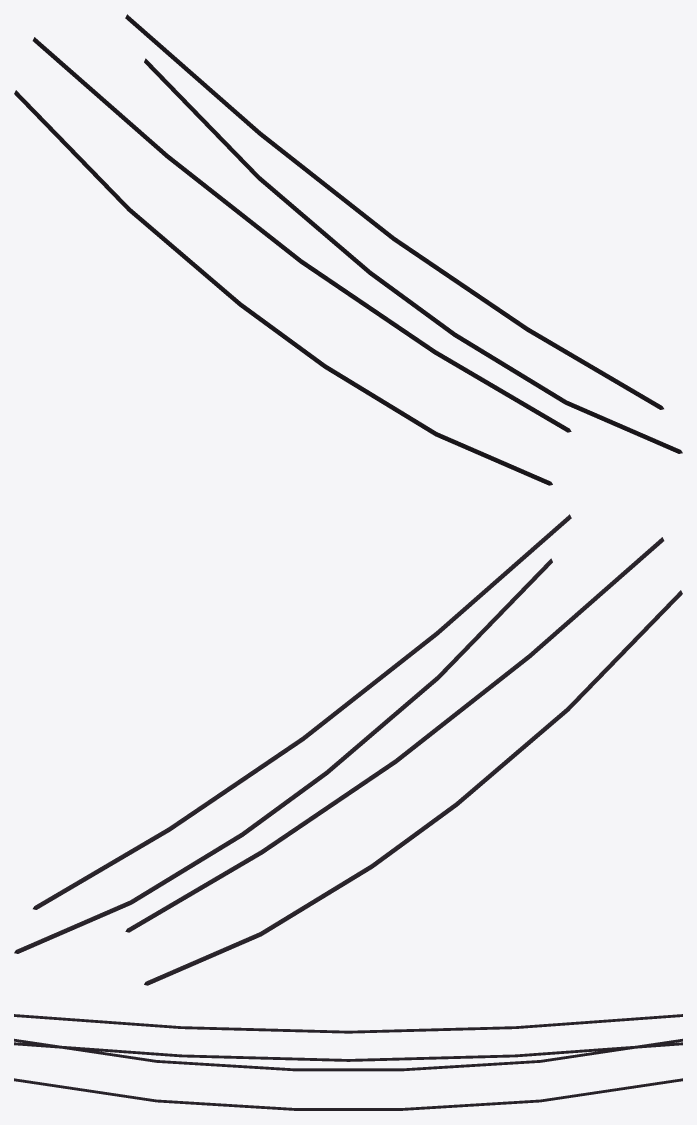
Rendered from Electric_Cable_1A.fbx.
3 renders of one model, top to bottom at view 1: azimuth 30°, elevation 25°; view 2: azimuth 150°, elevation 25°; view 3: azimuth 270°, elevation 25°, orthographic. The views are drawn at different scales.
Visible parts, largest first — view 1: Electric_Cable_1A; view 2: Electric_Cable_1A; view 3: Electric_Cable_1A.
Boxes of the visible parts, x1,y1,x2,y2 form: Electric_Cable_1A: (14,14,682,485); Electric_Cable_1A: (14,514,682,985); Electric_Cable_1A: (14,1014,682,1110).
Size of the model in its own units: 2.89 by 2.06 by 20.
